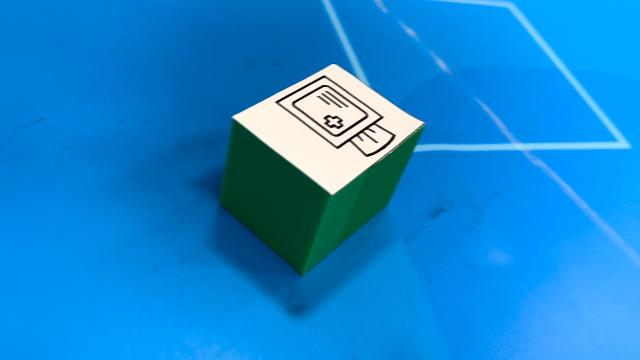napkin: (218, 61, 428, 277)
